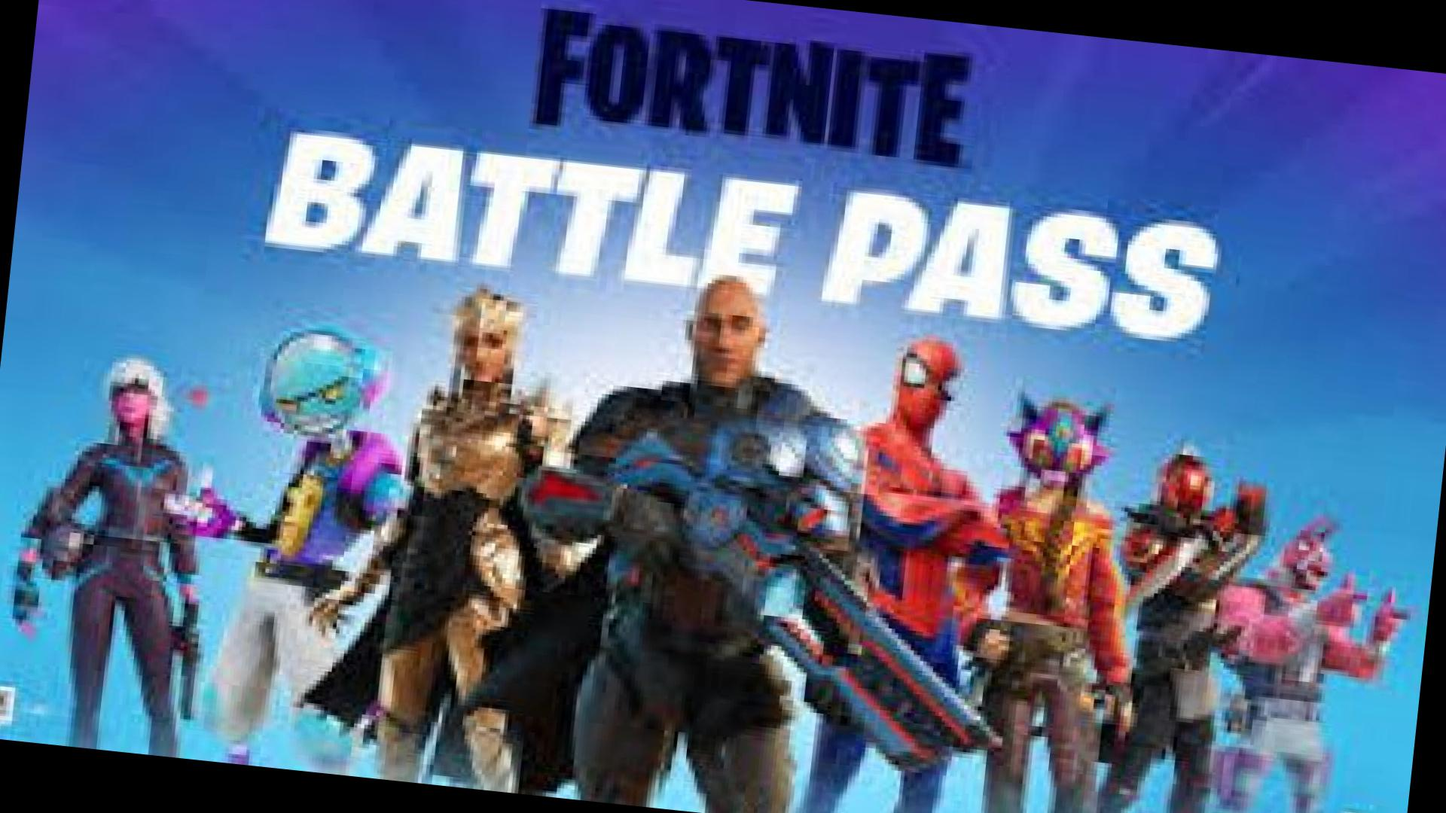player: (604, 293, 824, 793), (383, 303, 558, 793), (8, 365, 217, 758), (213, 333, 399, 735), (817, 349, 978, 805), (953, 406, 1124, 813), (1109, 453, 1257, 813), (1242, 527, 1369, 813)
